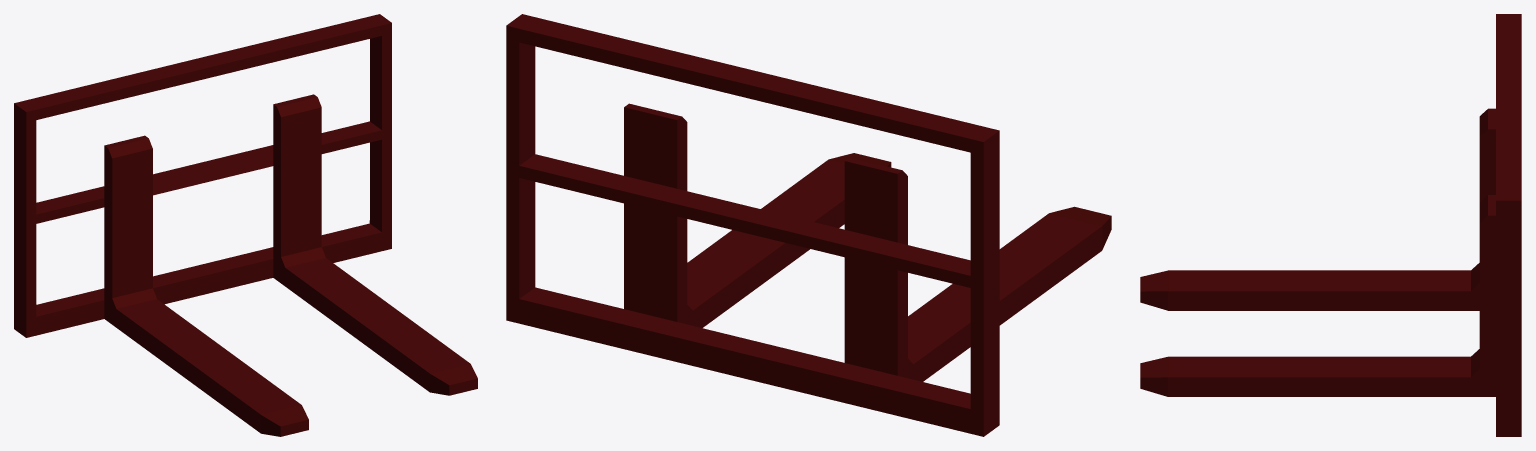
The model's file is ForkliftFork.obj.
The picture shows the model from 3 angles, left to right: view 1: azimuth 30°, elevation 25°; view 2: azimuth 150°, elevation 25°; view 3: azimuth 270°, elevation 25°; orthographic projection. The views are drawn at different scales.
Visible parts, largest first — view 1: Fork_Cube.003; view 2: Fork_Cube.003; view 3: Fork_Cube.003.
Part boxes in pixels (bbox=[...]): Fork_Cube.003: bbox=[14, 14, 477, 436]; Fork_Cube.003: bbox=[506, 14, 1111, 436]; Fork_Cube.003: bbox=[1140, 14, 1521, 436].
Bounding box in the file's own units: 2.77 × 1.64 × 2.39.
